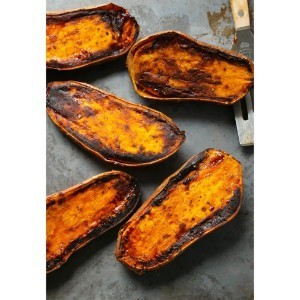sweet potato_brain food: (67, 49, 239, 242)
